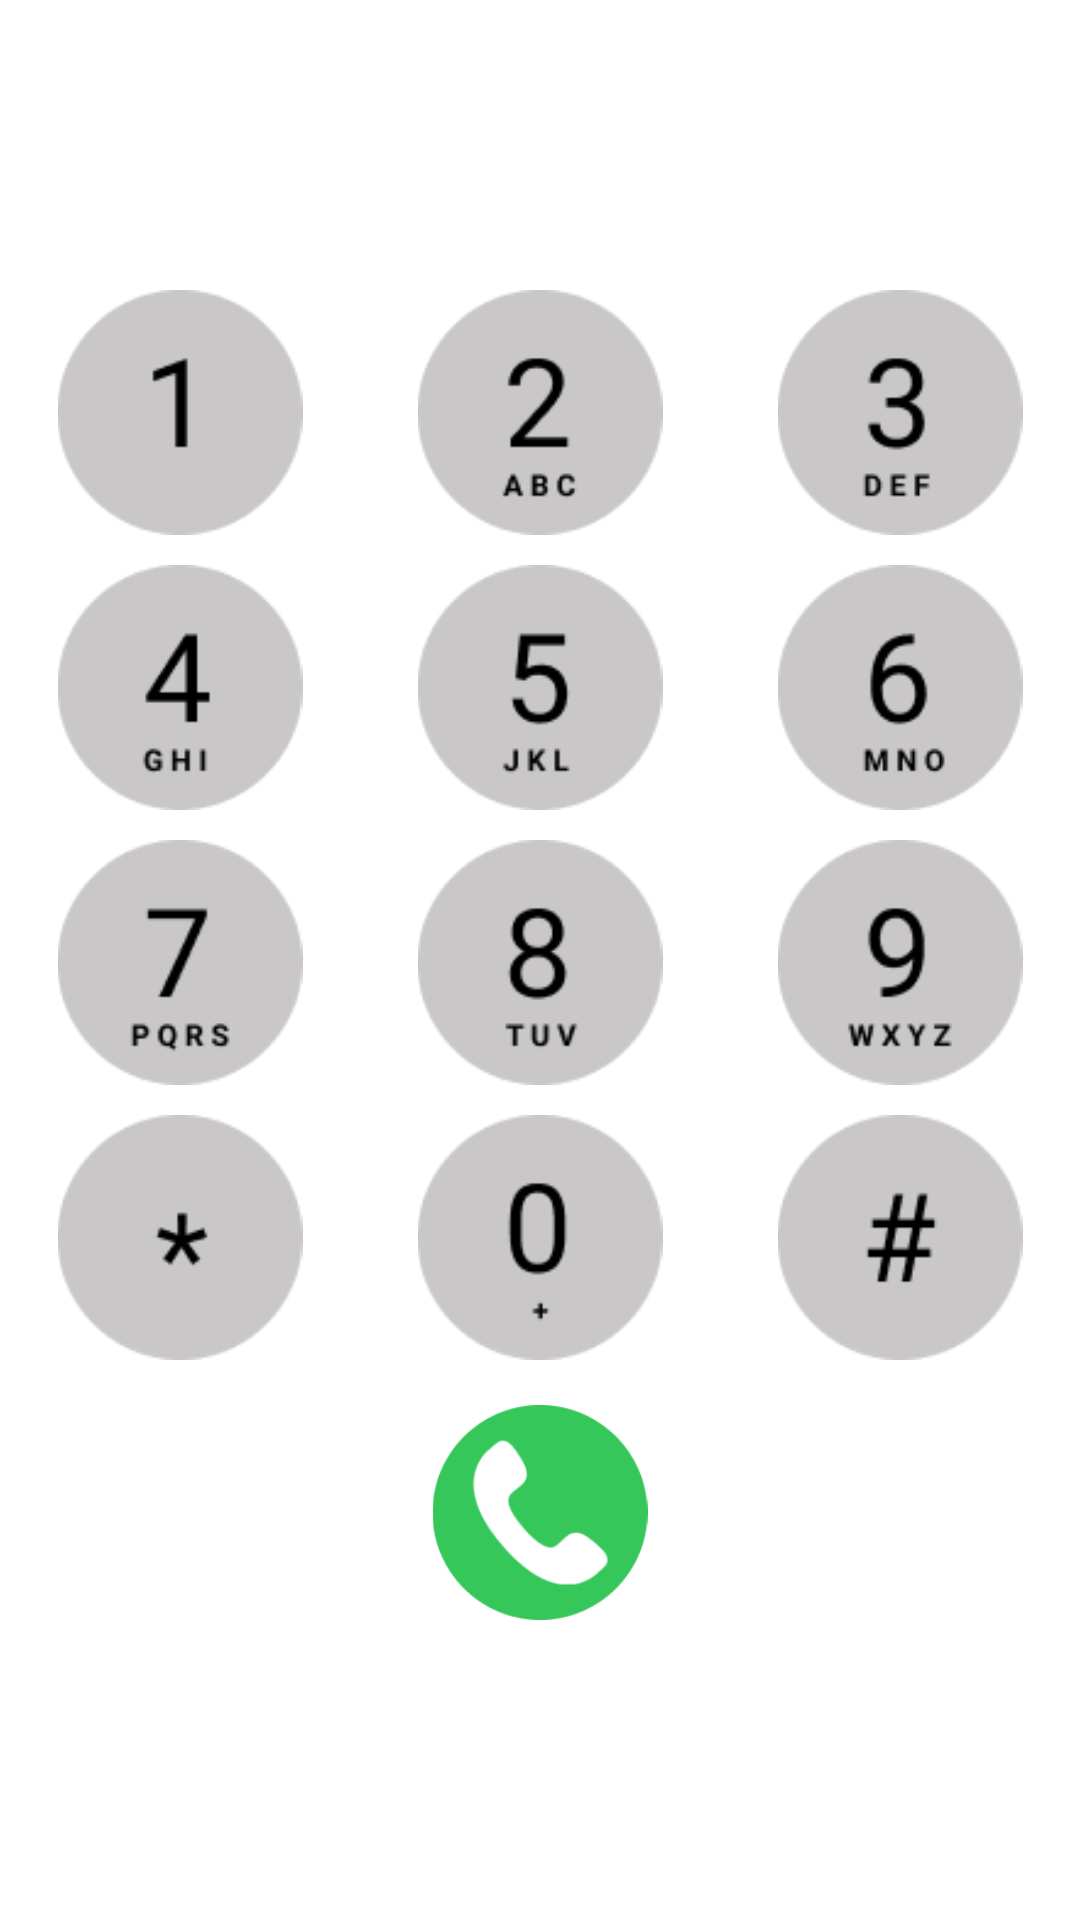

Icon bounding boxes for this 1080w x 1920h phone screenshot, format BBox(x1, y1, x2, y2):
call: BBox(433, 1405, 648, 1620)
